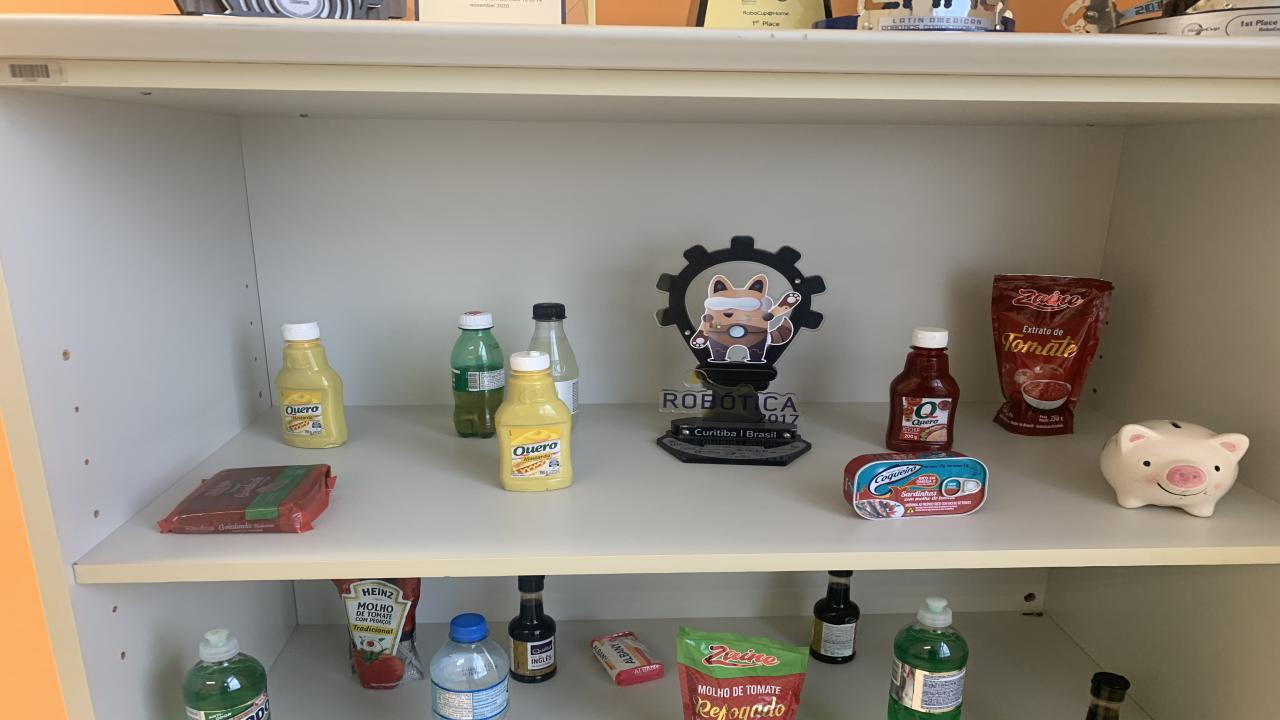Detergent-Cleanup_Items: (888, 596, 968, 720), (182, 628, 270, 720)
English_Sauce-Pantry_Items: (508, 576, 558, 682), (810, 570, 860, 664), (1085, 671, 1130, 720)
Guarana-Drinks: (450, 311, 505, 439)
Guava-Snacks: (158, 465, 335, 534)
Ketchup-Pantry_Items: (888, 326, 960, 452)
Mustard-Pantry_Items: (495, 351, 572, 491), (275, 322, 348, 448)
Pig_Safe-Miscellaneous: (1100, 420, 1250, 516)
Soap-Cleanup_Items: (590, 632, 662, 686)
Soda-Drinks: (528, 302, 580, 428)
Tomato_Sauce-Pantry_Items: (990, 274, 1112, 435), (678, 626, 808, 718), (332, 578, 422, 690)
Trophy-Miscellaneous: (655, 236, 825, 465)
Tuna_Can-Pantry_Items: (845, 453, 993, 520)
Water_Bottle-Drinks: (430, 613, 510, 720)
